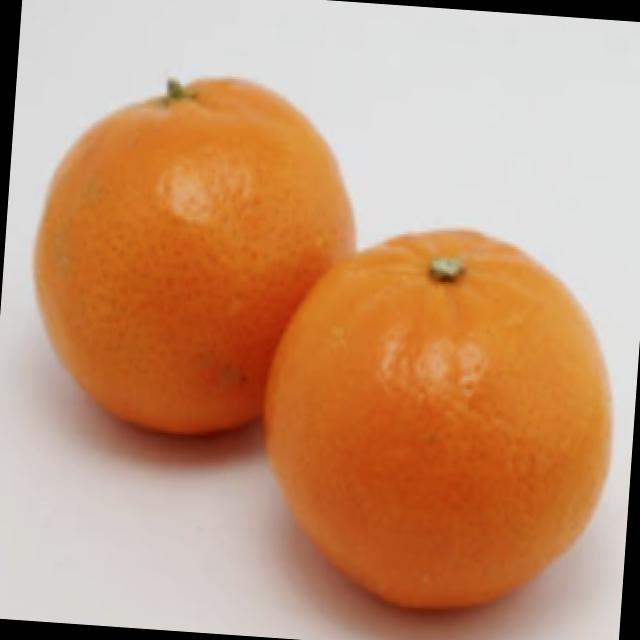orange: (246, 202, 624, 640), (22, 59, 378, 464)
